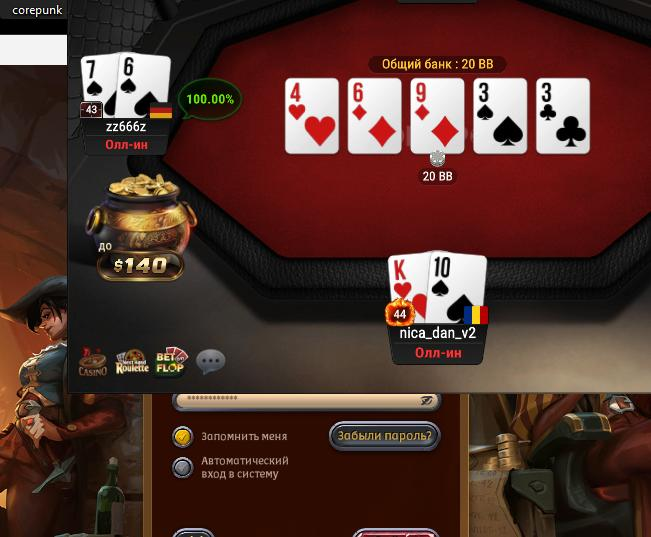10s: (429, 251, 487, 323)
3c: (538, 79, 590, 152)
3s: (474, 79, 527, 154)
4h: (285, 77, 338, 153)
6d: (349, 79, 401, 153)
6s: (118, 52, 171, 118)
7s: (80, 54, 119, 118)
9d: (411, 78, 463, 154)
Kh: (388, 251, 428, 325)
